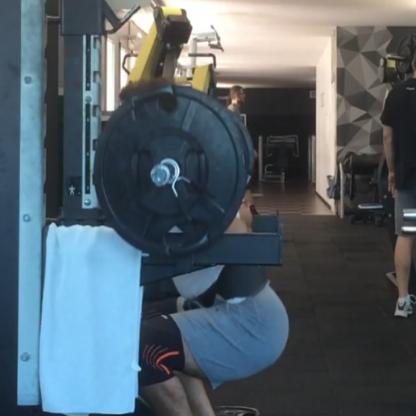barbell: (94, 89, 247, 257)
